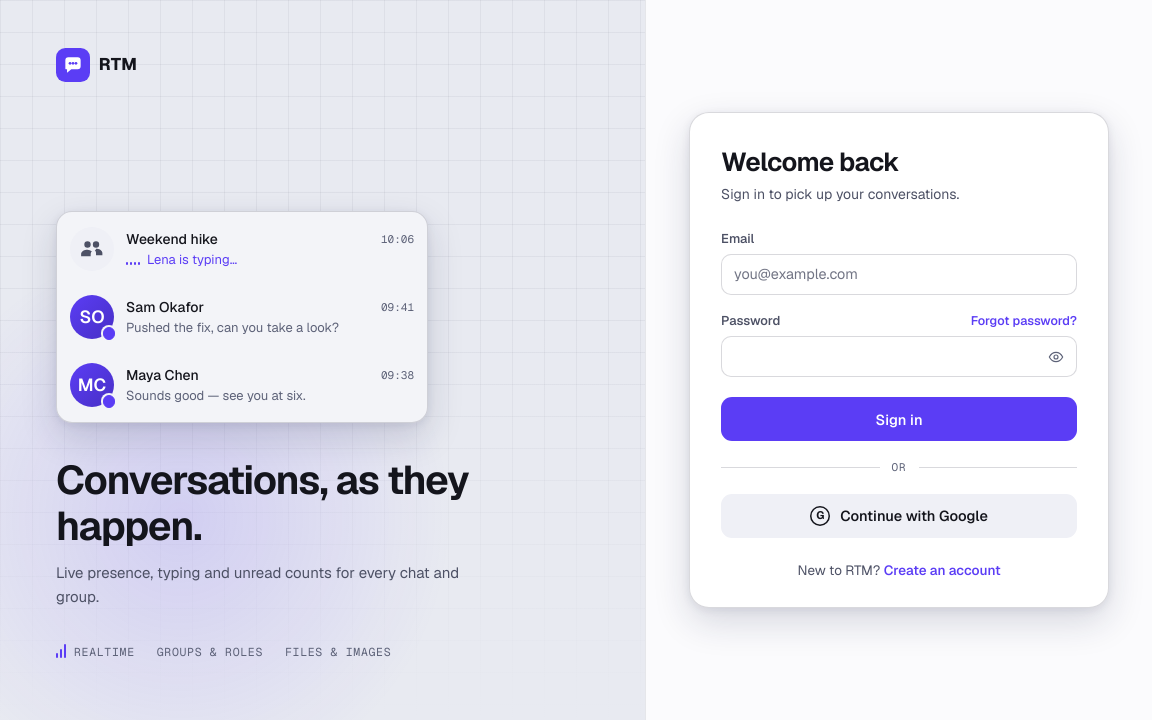
it: LoginPage › asks for a pause after too many attempts
Type "majd@example.com" into the field labelled "Email" at (899, 274), box [721,254,1077,295]
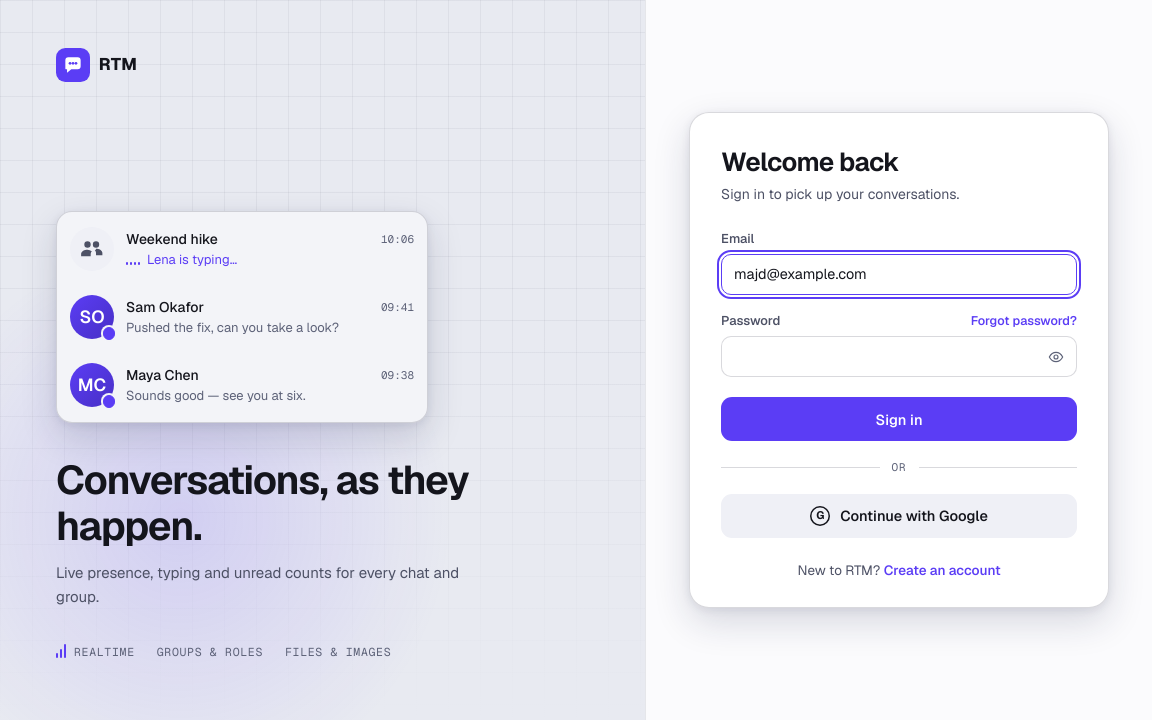
Type "wrong" into the password field labelled "Password" at (881, 357), box [722,337,1040,376]
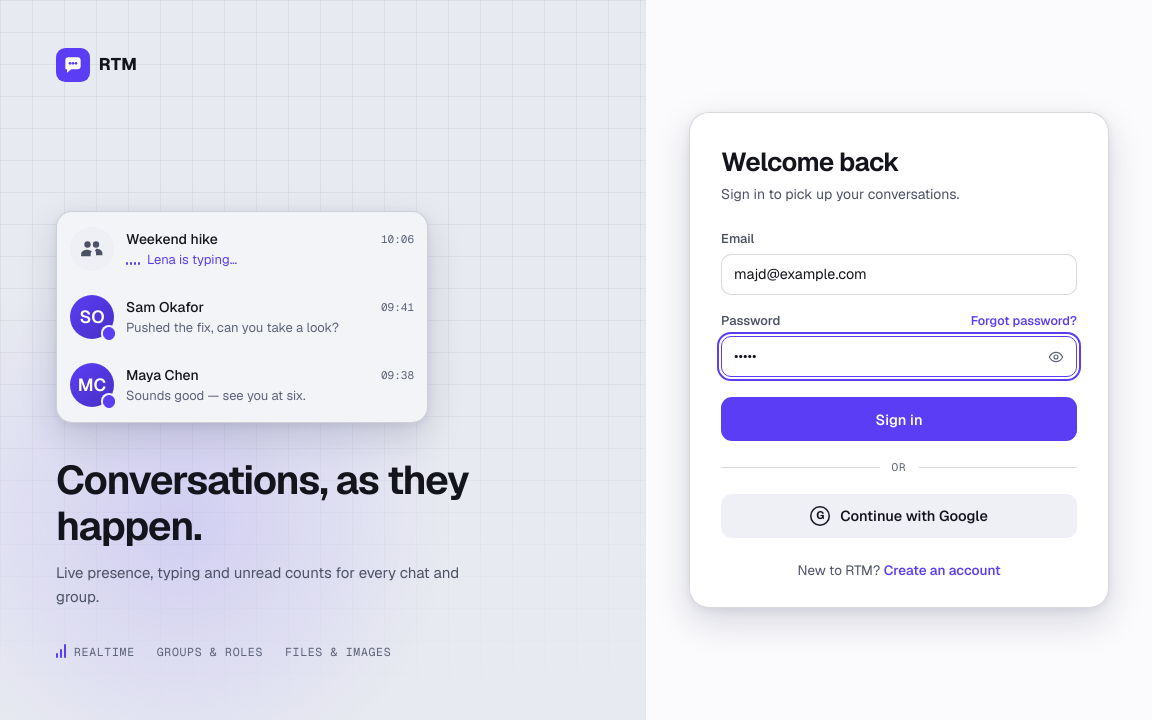
Click the button "Sign in" at (899, 420), box [721,398,1077,442]
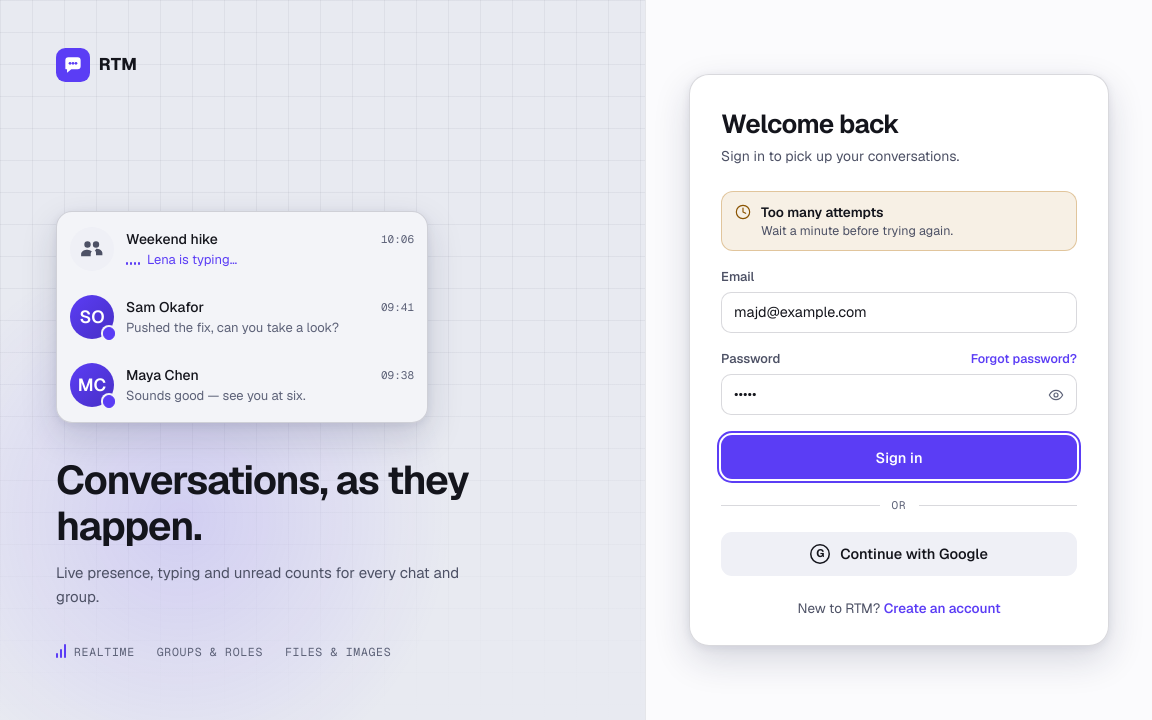
Expected: the message shows "Too many attempts", [761,203,884,221]
